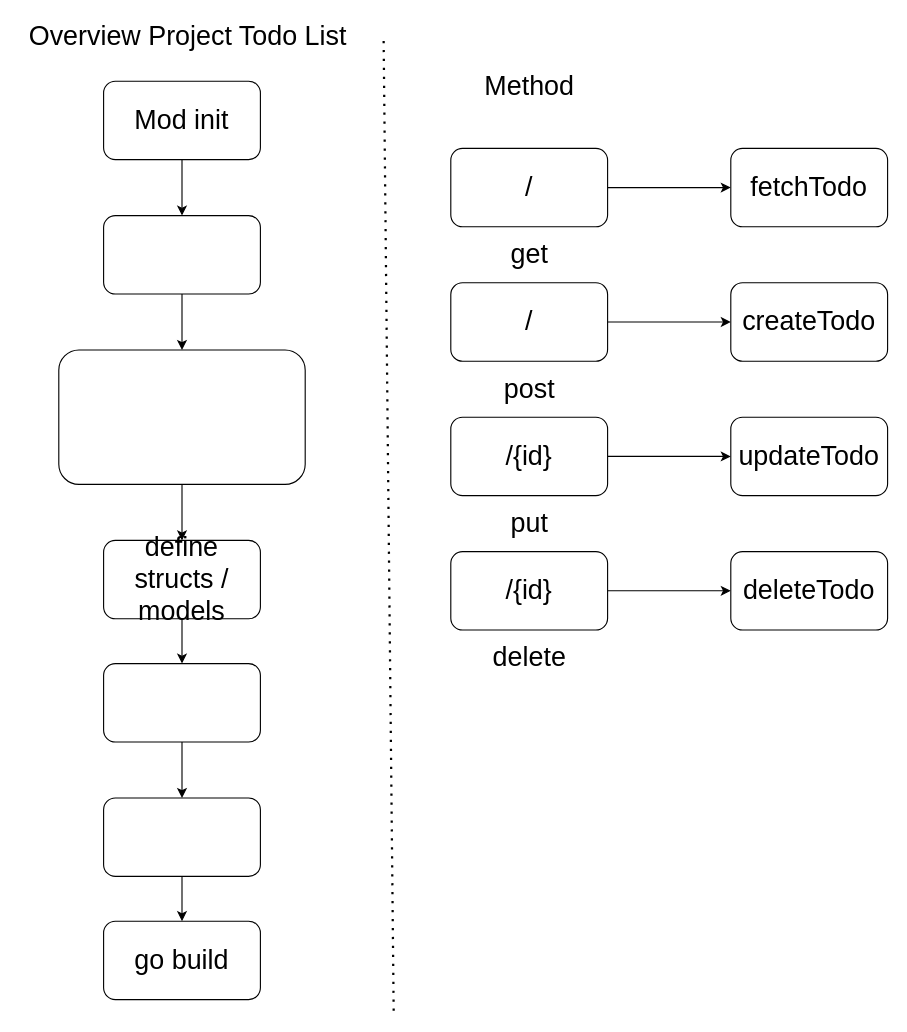
Some shapes in this 907 by 1032 pixel diagram are drawn without their labels. The shapes that lost their labels are listed below. From the top down, each one's centre as x and y in pixels, then its label:
the point at 181,254: go get packages
the point at 181,416: main.go -> func main -> defind routers with respective functions
the point at 181,702: connect to database
the point at 181,836: Define functions
